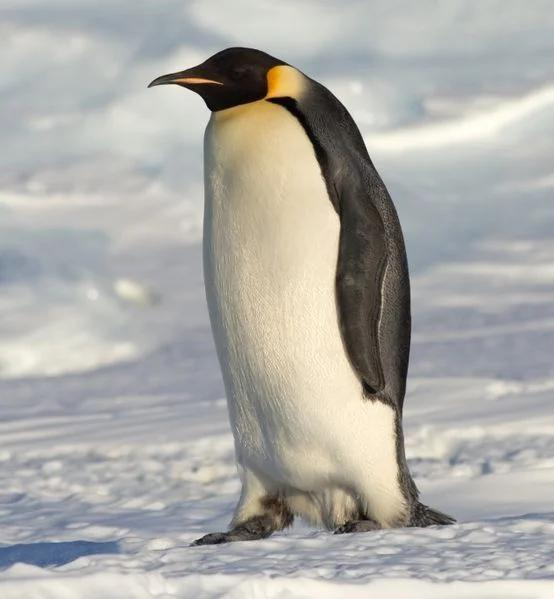Penguin: (150, 48, 454, 544)
